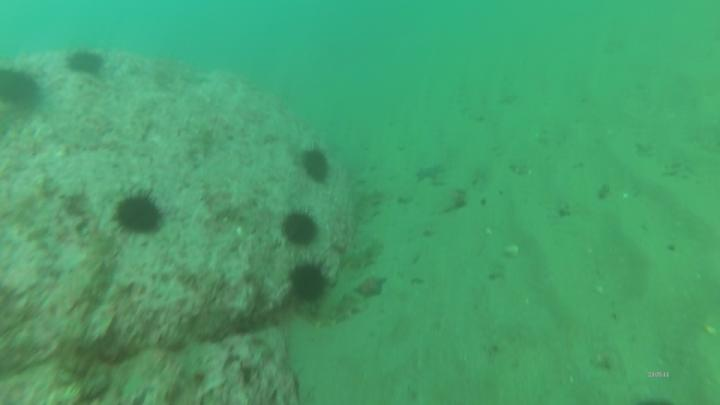echinus: (114, 190, 165, 237), (289, 260, 330, 305), (279, 209, 321, 250), (301, 145, 333, 188), (1, 68, 39, 104), (66, 48, 105, 76)
starfish: (415, 161, 448, 187), (354, 274, 385, 301)
